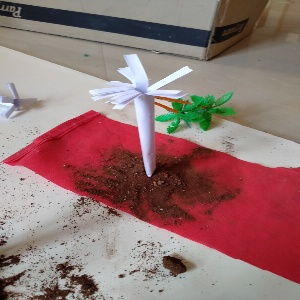plant: (159, 78, 243, 129)
weed: (84, 39, 182, 201)
